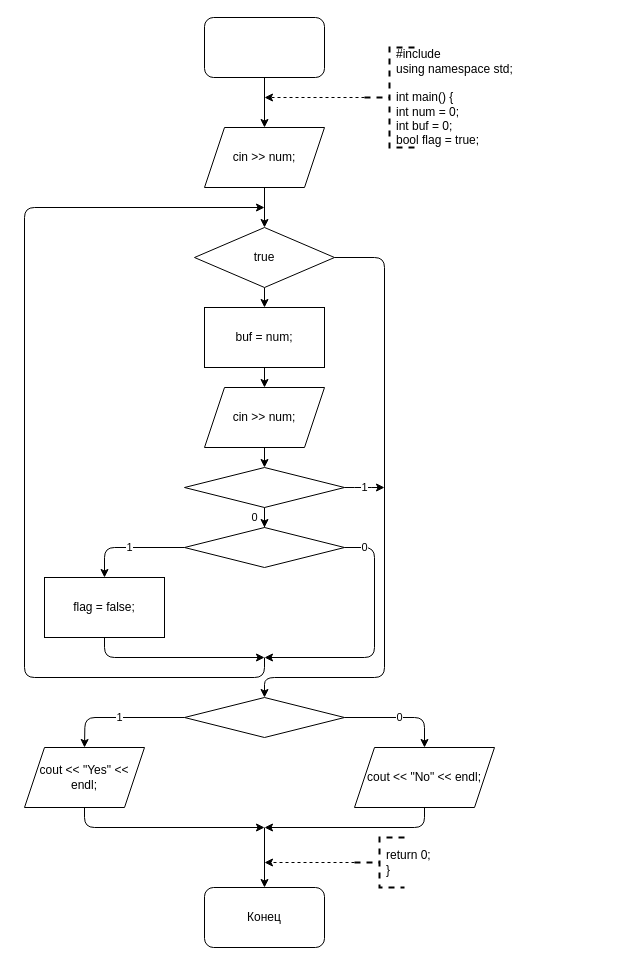
Image size: 632x965. Some labels were removed from this diagram. Each missing label, with the centre of its shape:
if (flag): the point at 264,717
if (num < buf): the point at 264,547
if (num == 0): the point at 264,487
Начало: the point at 264,47
